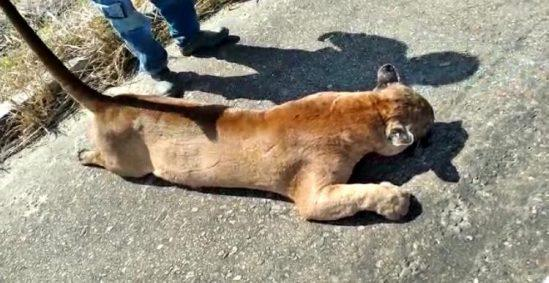OncaParda: (8, 5, 446, 233)
